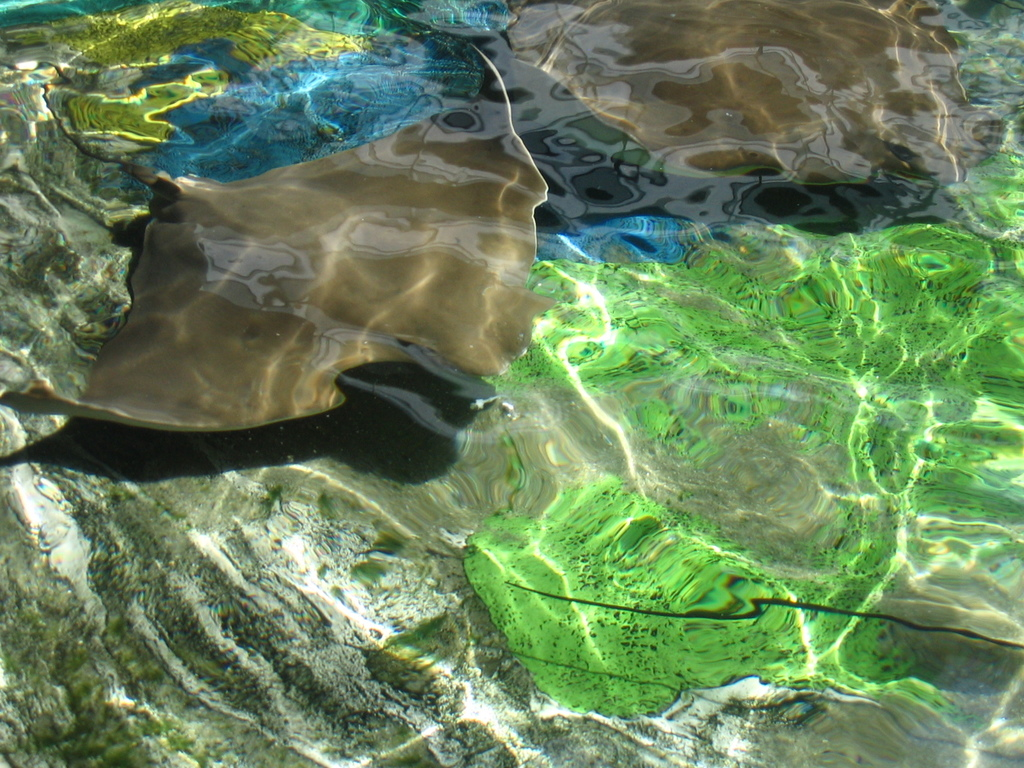Animal: (28, 40, 555, 445)
